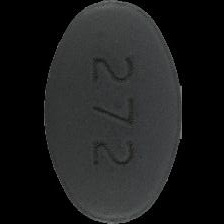68382-272: (0, 0, 224, 224)
